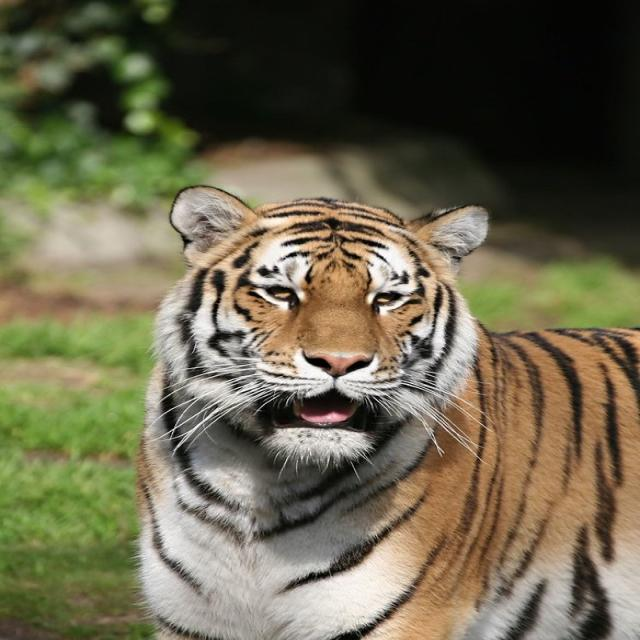Tiger: (128, 182, 635, 635)
